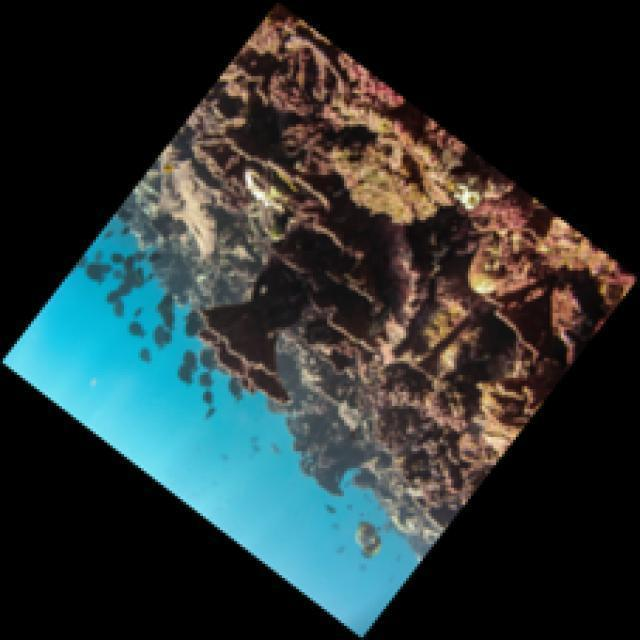Dead Coral: (165, 182, 396, 417), (212, 43, 419, 266), (409, 176, 562, 346)
